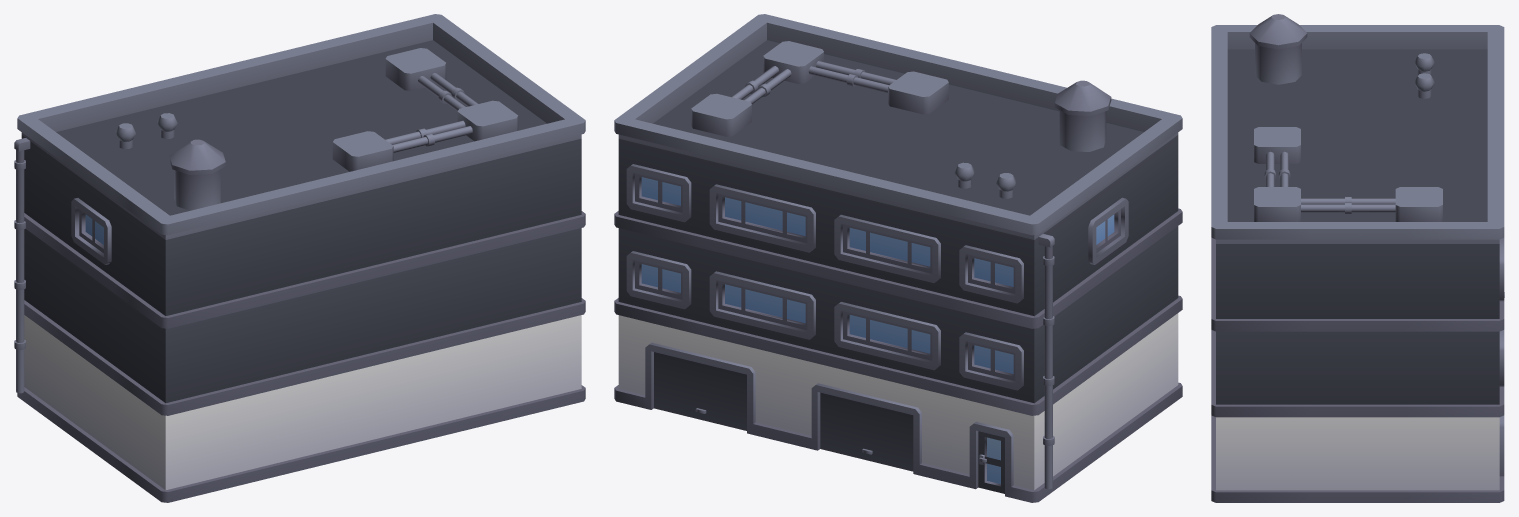
Rendered from warehouse_0.fbx.
The picture shows the model from 3 angles, left to right: view 1: azimuth 30°, elevation 25°; view 2: azimuth 150°, elevation 25°; view 3: azimuth 270°, elevation 25°; orthographic projection.
Visible parts, largest first — view 1: warehouse_0; view 2: warehouse_0; view 3: warehouse_0.
Boxes of the visible parts, box(x1,y1,x2,y2) form: warehouse_0: box(14, 14, 585, 502); warehouse_0: box(614, 14, 1182, 502); warehouse_0: box(1211, 14, 1504, 502).
Size of the model in its own units: 2.08 by 1.47 by 1.24.
Materials: 2 (2 with a texture image).
